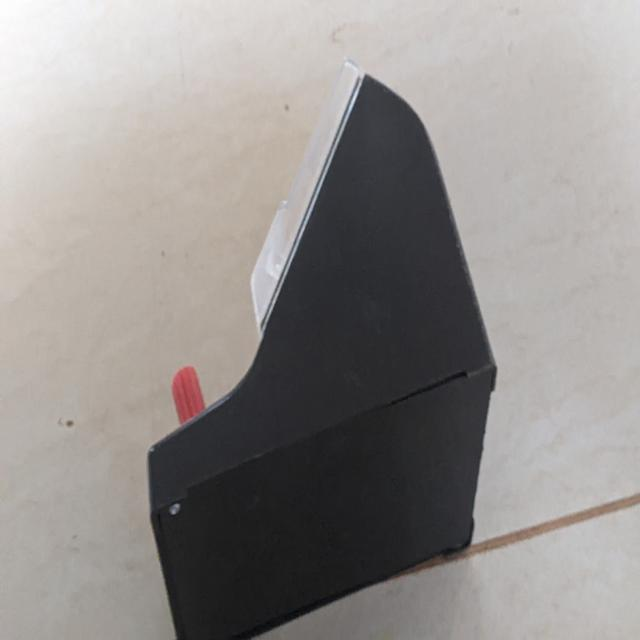Galvanometer: (119, 34, 513, 640)
